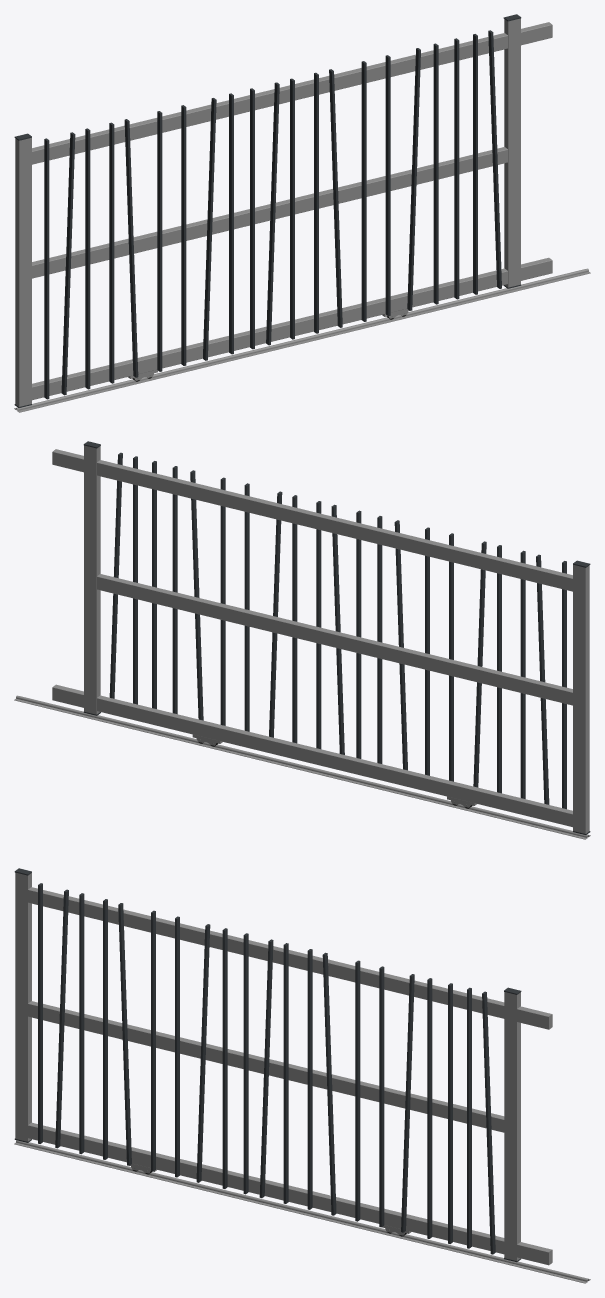
The picture shows the model from 3 angles, top to bottom: view 1: azimuth 30°, elevation 25°; view 2: azimuth 150°, elevation 25°; view 3: azimuth 330°, elevation 25°; orthographic projection.
Visible parts, largest first — view 1: Shape107412249, Shape107412251, Shape107412286, Pilar, Pilar001, Rail, Box2381, Box2379, Box2416, Box2417, Box2378, Box2375 (+15 smaller); view 2: Shape107412249, Shape107412251, Shape107412286, Pilar, Pilar001, Rail, Box2373, Box2417, Box2422, Box2423, Box2372, Box2420 (+15 smaller); view 3: Shape107412251, Shape107412249, Shape107412286, Pilar001, Pilar, Rail, Box2372, Box2373, Box2419, Box2420, Box2379, Box2423 (+15 smaller).
Part boxes in pixels (<box>): Shape107412249: <box>32,257,552,400</box>; Shape107412251: <box>32,22,552,164</box>; Shape107412286: <box>32,147,507,278</box>; Pilar: <box>15,137,31,406</box>; Pilar001: <box>504,18,520,287</box>; Rail: <box>14,268,590,412</box>; Box2381: <box>44,138,49,399</box>; Box2379: <box>85,128,90,389</box>; Box2416: <box>454,38,459,299</box>; Box2417: <box>433,43,438,304</box>; Box2378: <box>109,122,114,383</box>; Box2375: <box>181,105,186,365</box>; Shape107412249: <box>52,684,572,827</box>; Shape107412251: <box>52,449,572,591</box>; Shape107412286: <box>97,574,572,705</box>; Pilar: <box>573,564,589,833</box>; Pilar001: <box>84,445,100,714</box>; Rail: <box>14,695,590,839</box>; Box2373: <box>377,516,382,763</box>; Box2417: <box>172,466,177,714</box>; Box2422: <box>292,495,297,743</box>; Box2423: <box>316,501,321,749</box>; Box2372: <box>356,510,361,758</box>; Box2420: <box>244,483,249,731</box>; Shape107412251: <box>28,887,552,1029</box>; Shape107412249: <box>28,1122,552,1265</box>; Shape107412286: <box>28,1001,504,1132</box>; Pilar001: <box>504,992,520,1260</box>; Pilar: <box>15,872,31,1141</box>; Rail: <box>14,1140,590,1283</box>; Box2372: <box>243,933,248,1194</box>; Box2373: <box>222,928,227,1188</box>; Box2419: <box>379,966,384,1227</box>; Box2420: <box>355,960,360,1221</box>; Box2379: <box>79,893,84,1154</box>; Box2423: <box>283,943,288,1203</box>.
Size of the model in its own units: 3600 by 1640 by 79.46.
Materials: 5 (2 with a texture image).
